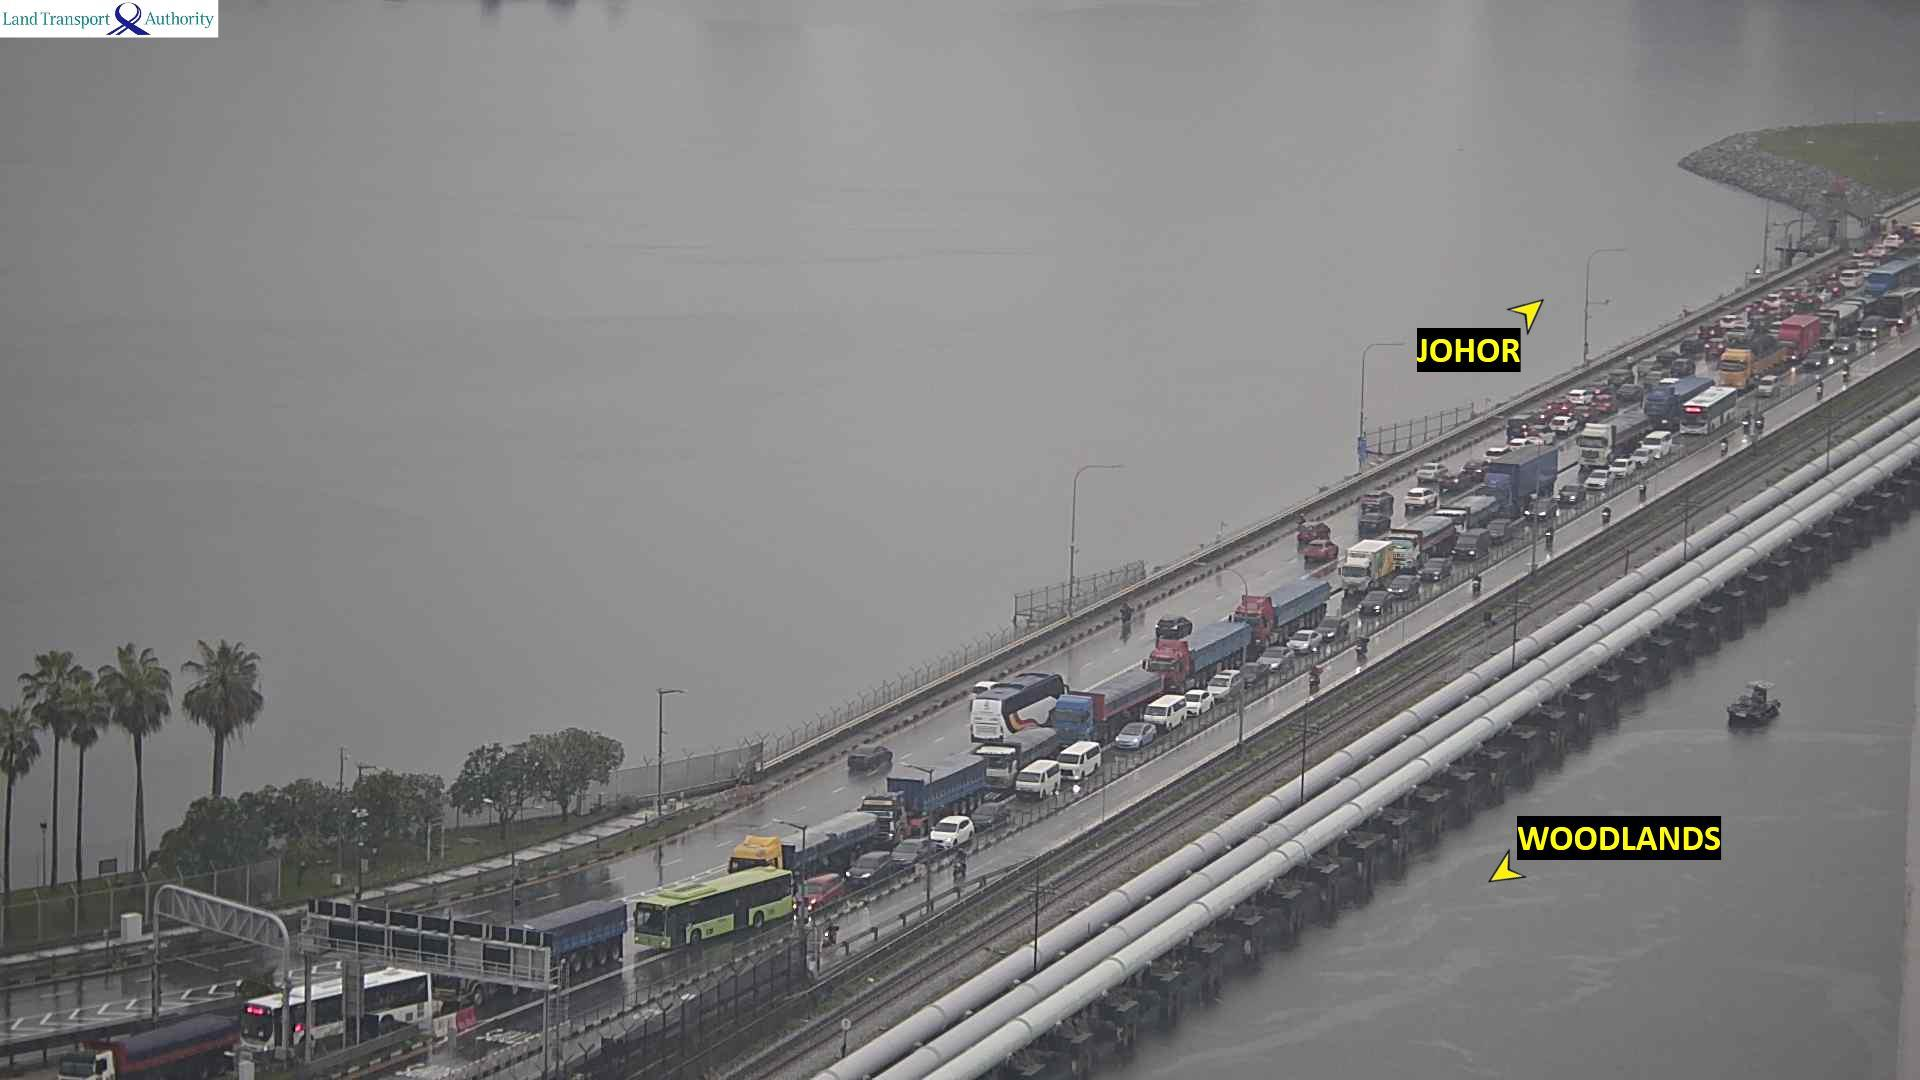vehicle-causeway-johor: (972, 676, 1062, 742), (845, 749, 895, 773), (1157, 616, 1192, 637), (1406, 486, 1435, 509), (1298, 523, 1331, 542), (1303, 543, 1336, 561), (1362, 491, 1392, 510), (1441, 474, 1471, 492), (1358, 515, 1389, 531), (1416, 463, 1444, 479), (1839, 270, 1864, 287), (1508, 413, 1531, 430), (1465, 458, 1485, 477), (1592, 394, 1613, 412), (1550, 415, 1575, 430), (1885, 234, 1907, 250), (1842, 259, 1874, 270), (1636, 358, 1659, 372), (1620, 382, 1640, 398), (1697, 326, 1718, 340), (1721, 316, 1742, 330), (1674, 361, 1693, 376), (1808, 287, 1831, 299), (1768, 294, 1785, 310), (1533, 428, 1555, 440), (1785, 285, 1802, 300), (1612, 369, 1628, 384), (1643, 372, 1667, 382), (1729, 331, 1747, 344), (1569, 389, 1590, 400), (1707, 339, 1722, 354), (1867, 245, 1887, 256), (1681, 340, 1699, 352), (1489, 446, 1506, 458), (1122, 601, 1133, 619), (1659, 351, 1675, 363), (1747, 302, 1765, 312), (1912, 223, 1920, 236)
vehicle-causeway-singapore: (438, 902, 627, 996), (238, 974, 427, 1053), (635, 867, 790, 948), (58, 1013, 230, 1080), (730, 811, 876, 875), (1056, 672, 1161, 741), (878, 756, 1004, 813), (1150, 623, 1248, 689), (1245, 578, 1330, 643), (1482, 452, 1568, 507), (978, 730, 1053, 784), (1646, 379, 1710, 427), (1339, 542, 1390, 591), (1681, 388, 1735, 432), (1386, 525, 1456, 556), (1866, 260, 1919, 299), (927, 819, 982, 850), (1017, 761, 1059, 800), (1716, 350, 1757, 389), (1883, 290, 1920, 333), (798, 873, 842, 908), (1576, 426, 1629, 455), (1780, 317, 1819, 356), (851, 850, 890, 886), (1060, 743, 1099, 776), (893, 840, 935, 868), (1146, 697, 1185, 727), (1457, 528, 1491, 559), (1819, 306, 1854, 336), (973, 803, 1010, 828), (1354, 590, 1388, 614), (1524, 499, 1564, 517), (1185, 691, 1214, 715), (1262, 646, 1292, 669), (1642, 432, 1670, 456), (1324, 616, 1350, 640), (1861, 315, 1888, 338), (1289, 632, 1319, 652), (1627, 447, 1652, 470), (1585, 470, 1612, 491), (1424, 559, 1450, 579), (1607, 461, 1633, 481), (1388, 574, 1416, 592), (1243, 665, 1263, 690), (1803, 352, 1828, 371), (1557, 485, 1583, 502), (1489, 523, 1512, 542), (1758, 376, 1779, 395), (952, 848, 965, 877), (823, 922, 839, 944), (1834, 337, 1856, 352), (1357, 636, 1370, 655), (1311, 669, 1321, 692), (1842, 361, 1849, 386), (1603, 505, 1612, 522), (1473, 574, 1481, 593), (1815, 378, 1823, 396), (1742, 411, 1750, 429), (1639, 479, 1647, 497), (1721, 436, 1728, 454), (1546, 527, 1553, 545), (1755, 413, 1762, 430)
